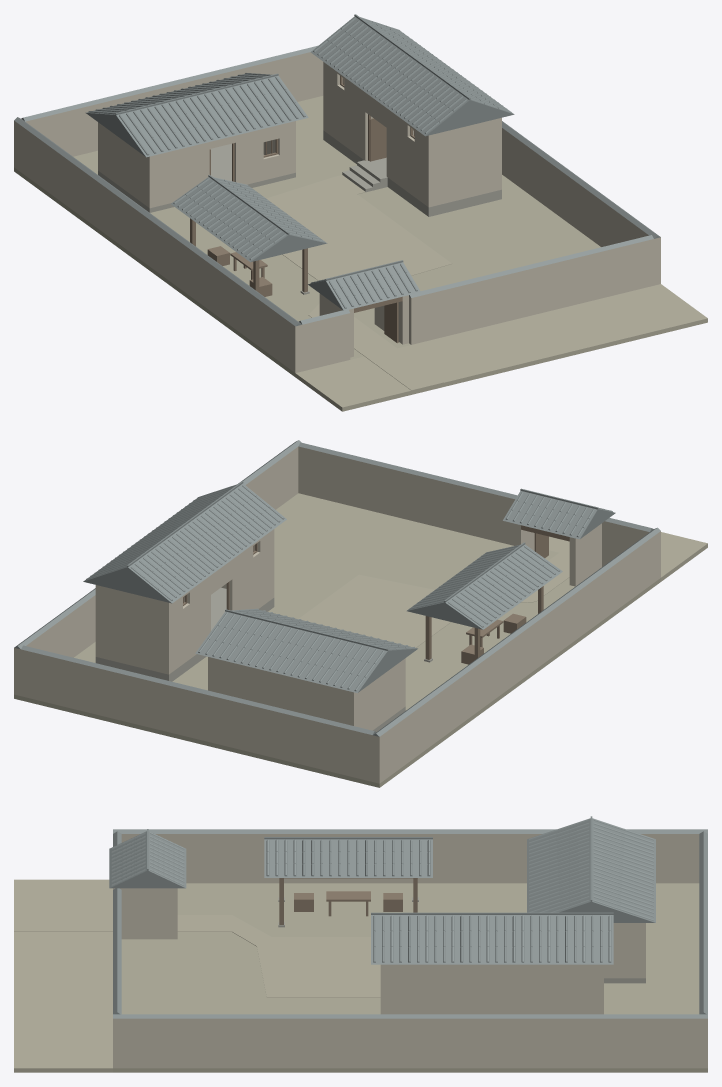
File: R01-B-LOD0-prototype.glb
The picture shows the model from 3 angles, top to bottom: view 1: azimuth 30°, elevation 25°; view 2: azimuth 150°, elevation 25°; view 3: azimuth 270°, elevation 25°; orthographic projection. The views are drawn at different scales.
Visible parts, largest first — view 1: architecture_C_whitebox_earth_wall, architecture_C_roof_rhythm_not_glaze_copy, site_lot, site_neutral_lane, designed_loading_yard, architecture_C_floor_plinth, architecture_C_plain_timber; view 2: architecture_C_whitebox_earth_wall, architecture_C_roof_rhythm_not_glaze_copy, site_lot, designed_loading_yard, architecture_C_plain_timber, architecture_C_floor_plinth, site_neutral_lane; view 3: architecture_C_whitebox_earth_wall, architecture_C_roof_rhythm_not_glaze_copy, site_lot, site_neutral_lane, designed_loading_yard, architecture_C_plain_timber.
Boxes of the visible parts, x1=… form: architecture_C_whitebox_earth_wall: x1=14, y1=52, x2=660, y2=372; architecture_C_roof_rhythm_not_glaze_copy: x1=14, y1=14, x2=660, y2=326; site_lot: x1=14, y1=96, x2=600, y2=376; site_neutral_lane: x1=295, y1=284, x2=707, y2=411; designed_loading_yard: x1=266, y1=175, x2=451, y2=390; architecture_C_floor_plinth: x1=98, y1=130, x2=501, y2=294; architecture_C_plain_timber: x1=190, y1=76, x2=414, y2=343; architecture_C_whitebox_earth_wall: x1=14, y1=446, x2=660, y2=783; architecture_C_roof_rhythm_not_glaze_copy: x1=14, y1=440, x2=660, y2=736; site_lot: x1=14, y1=493, x2=660, y2=787; designed_loading_yard: x1=298, y1=545, x2=569, y2=647; architecture_C_plain_timber: x1=183, y1=525, x2=569, y2=664; architecture_C_floor_plinth: x1=95, y1=587, x2=432, y2=731; site_neutral_lane: x1=549, y1=532, x2=707, y2=581; architecture_C_whitebox_earth_wall: x1=113, y1=834, x2=707, y2=1068; architecture_C_roof_rhythm_not_glaze_copy: x1=109, y1=816, x2=707, y2=1018; site_lot: x1=113, y1=883, x2=707, y2=1072; site_neutral_lane: x1=14, y1=879, x2=112, y2=1072; designed_loading_yard: x1=14, y1=915, x2=380, y2=997; architecture_C_plain_timber: x1=279, y1=878, x2=417, y2=924.
Size of the model in its own units: 18 by 5.52 by 28.
